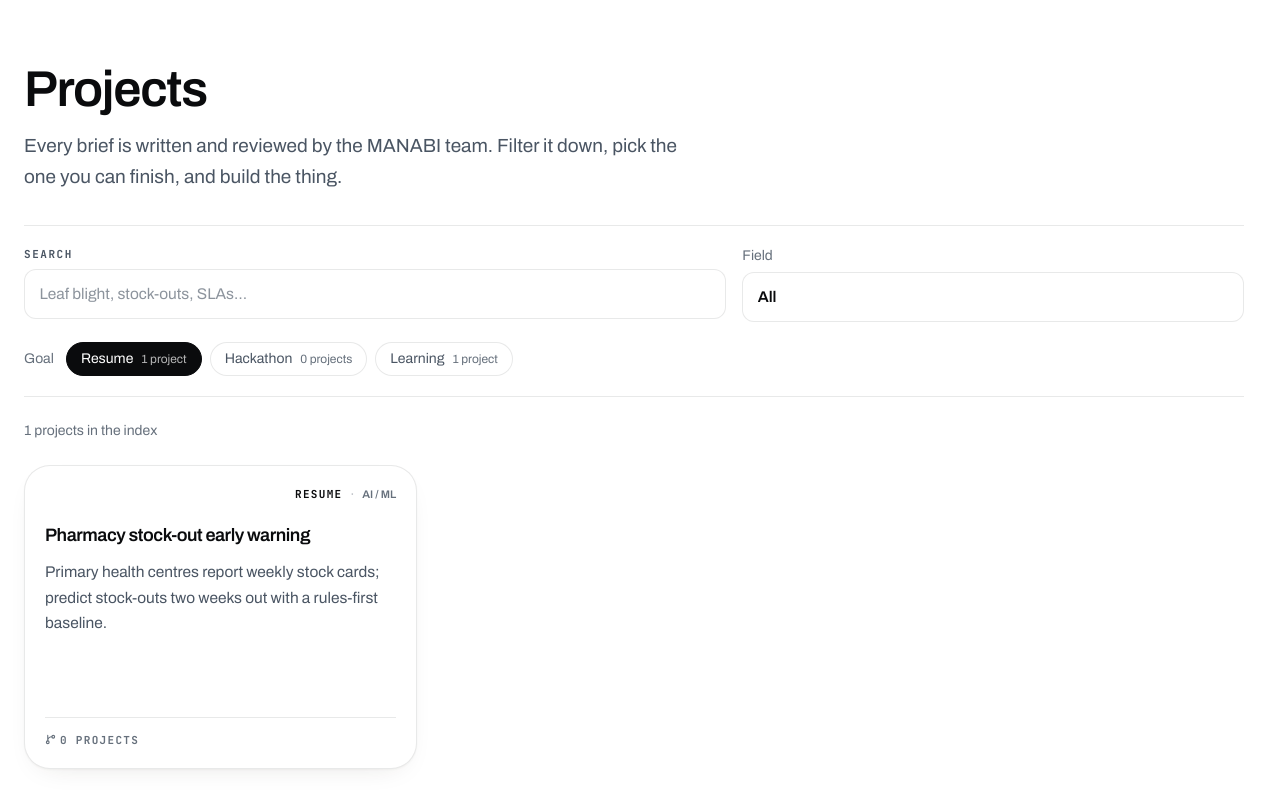
Test case: ProblemBoardPage › shows the difficulty filter only on the learning track
Expected: the field labelled "Difficulty" is not shown
Step 1. Click the button "Learning 1 project" → point(444, 359), box [375,342,513,376]
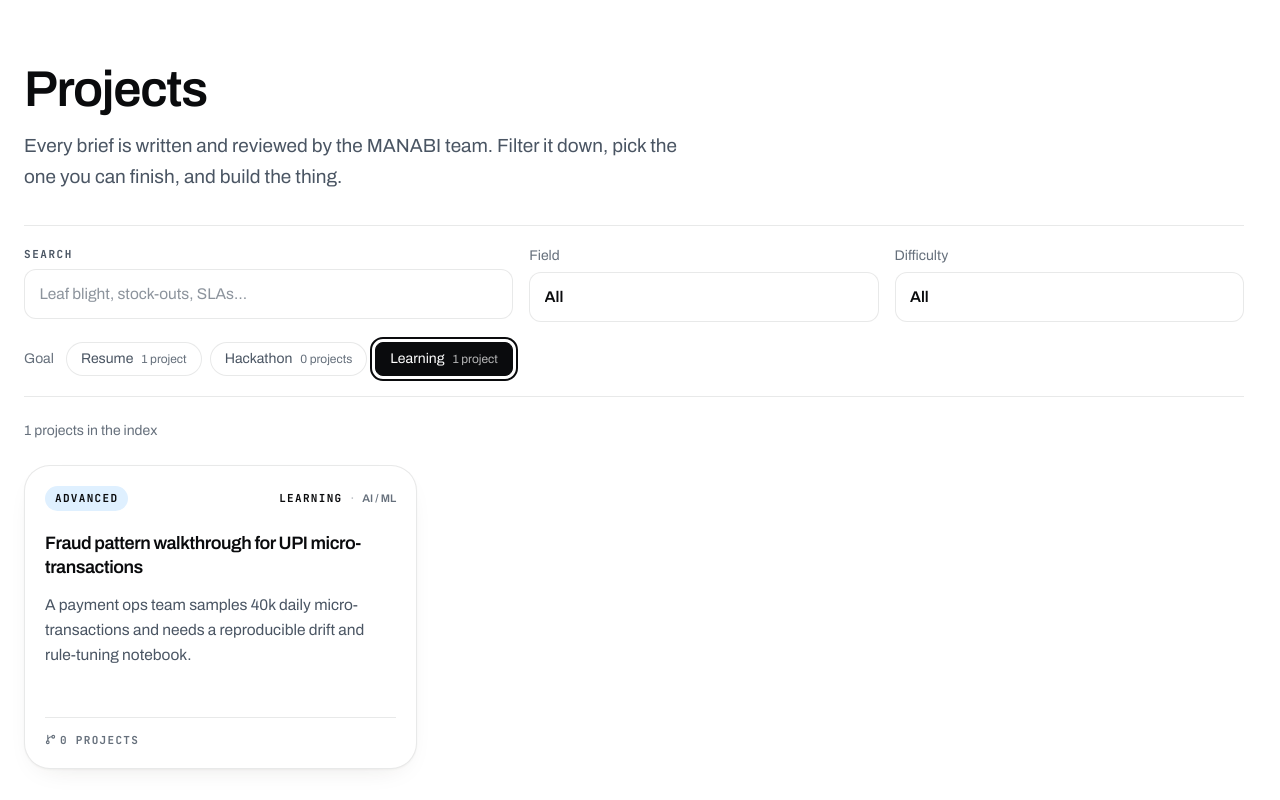
Expected: the dropdown labelled "Difficulty" is shown, [895,272,1244,322]
